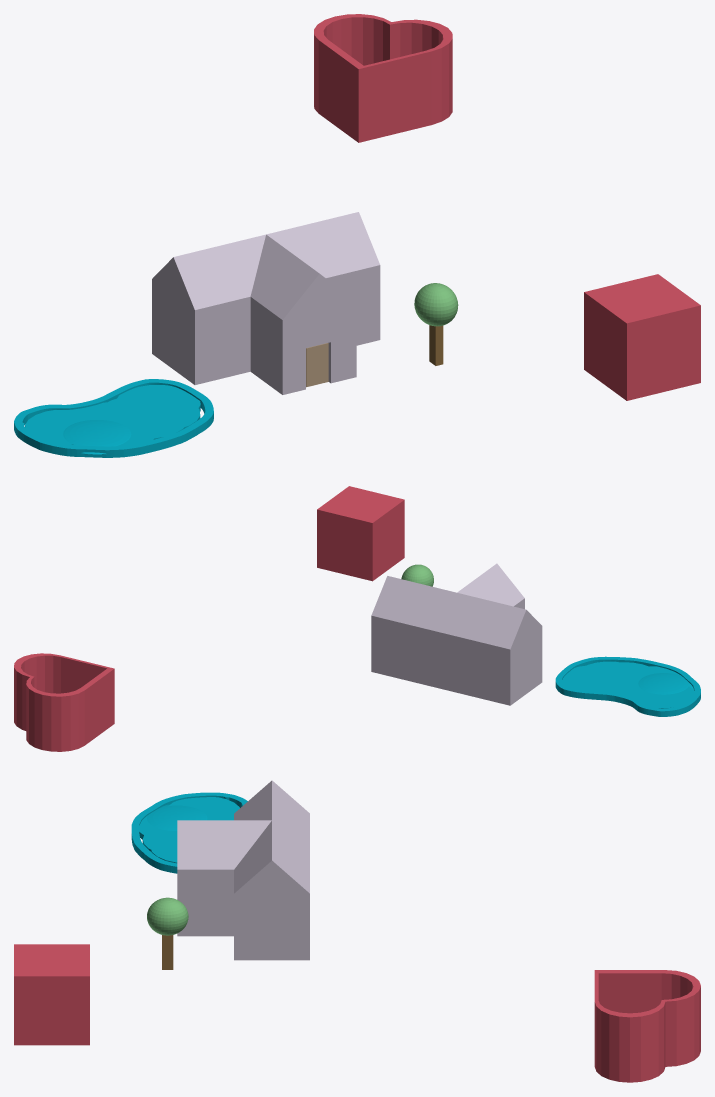
File: Larrainehouse.glb
3 views of the same model, one above another, from view 1: azimuth 30°, elevation 25°; view 2: azimuth 150°, elevation 25°; view 3: azimuth 270°, elevation 25° (orthographic). The views are drawn at different scales.
Visible parts, largest first — view 1: Mesh_Mesh_head_geo.001_lambert2SG.001; view 2: Mesh_Mesh_head_geo.001_lambert2SG.001; view 3: Mesh_Mesh_head_geo.001_lambert2SG.001.
Part boxes in pixels (<box>): Mesh_Mesh_head_geo.001_lambert2SG.001: <box>14,14,700,457</box>; Mesh_Mesh_head_geo.001_lambert2SG.001: <box>14,486,700,751</box>; Mesh_Mesh_head_geo.001_lambert2SG.001: <box>14,780,700,1082</box>.
Size of the model in its own units: 179 by 29 by 181.
